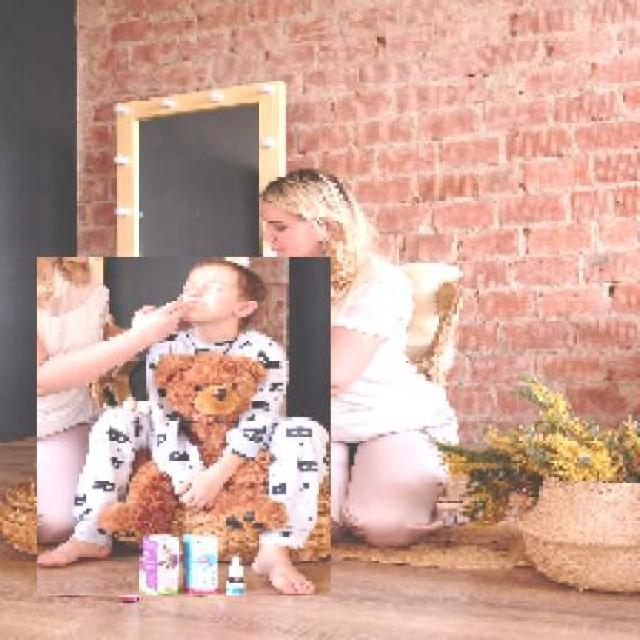child: (35, 257, 331, 597)
